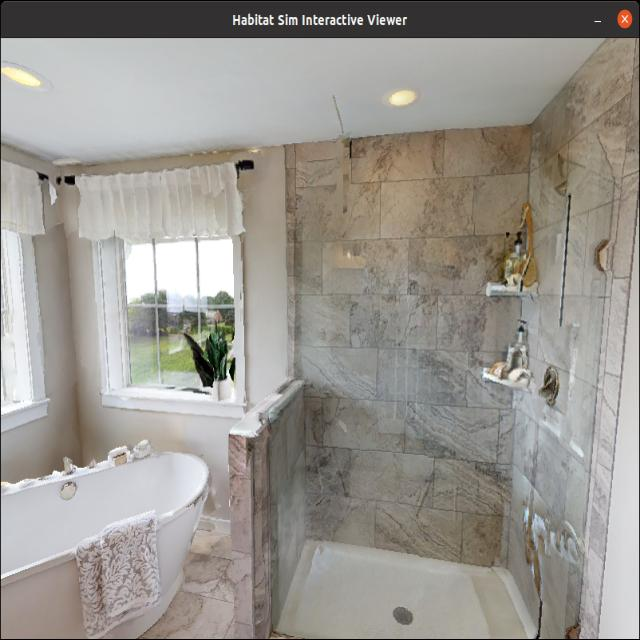shower: (264, 119, 610, 640)
